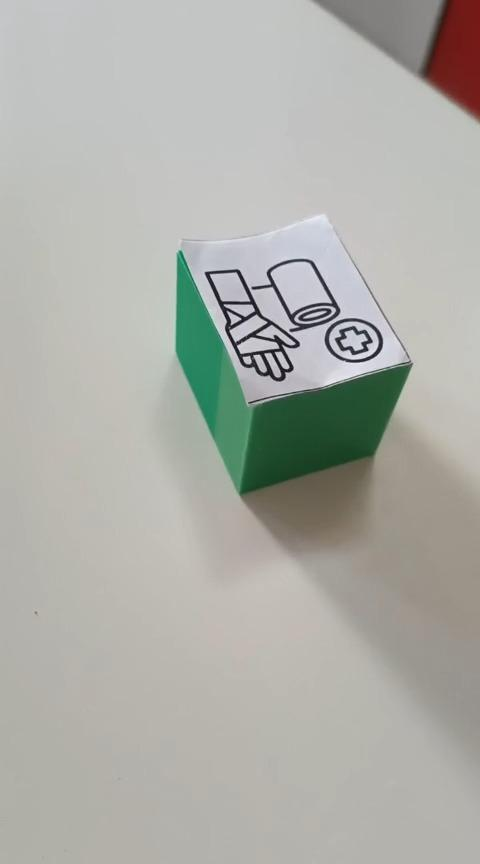Bandages: (173, 212, 413, 495)
